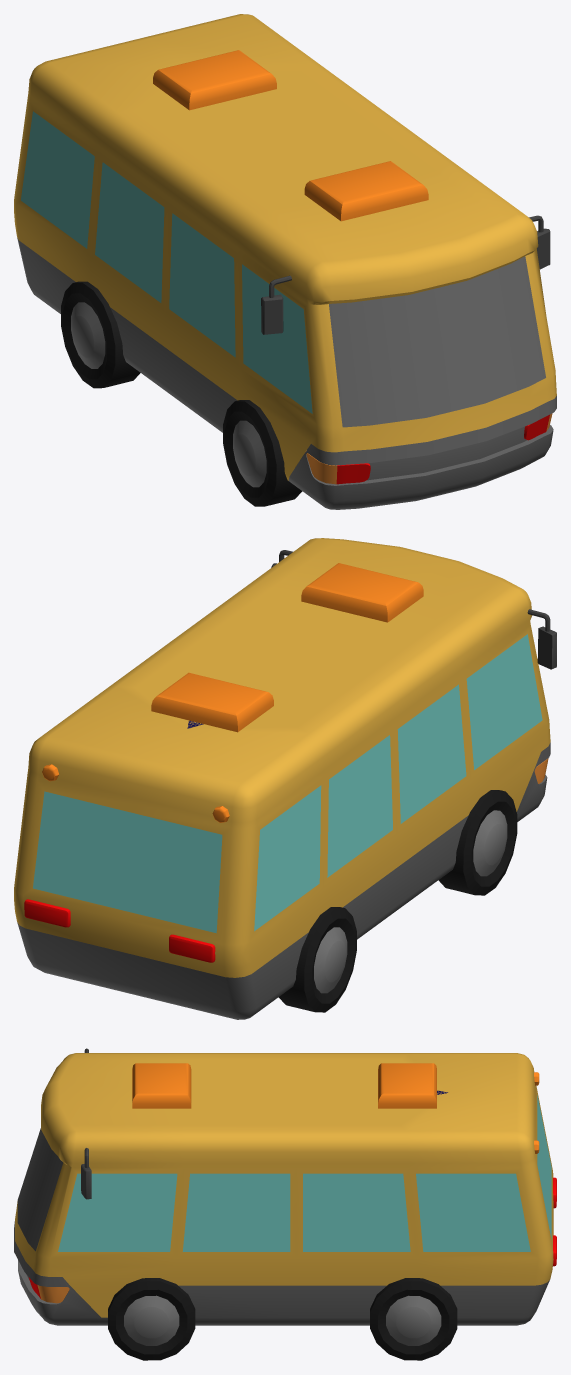
File: Mini Bus.fbx
3 views of the same model, one above another, from view 1: azimuth 30°, elevation 25°; view 2: azimuth 150°, elevation 25°; view 3: azimuth 270°, elevation 25° (orthographic). The views are drawn at different scales.
Parts seen in each view (by area): view 1: Mini Bus body, Mini Bus, Tyer; view 2: Mini Bus body, Mini Bus, Tyer; view 3: Mini Bus body, Mini Bus, Tyer.
Part boxes in pixels (left/top/right/bottom): Mini Bus body: left=14, top=14, right=556, bottom=480; Mini Bus: left=17, top=50, right=556, bottom=509; Tyer: left=61, top=281, right=302, bottom=506; Mini Bus body: left=14, top=538, right=550, bottom=977; Mini Bus: left=17, top=550, right=556, bottom=1019; Tyer: left=278, top=790, right=517, bottom=1012; Mini Bus body: left=15, top=1053, right=553, bottom=1317; Mini Bus: left=14, top=1048, right=556, bottom=1325; Tyer: left=108, top=1278, right=457, bottom=1360.
Bounding box in the file's own units: 2.4 × 2.29 × 4.86.
Materials: 2 (1 with a texture image).
